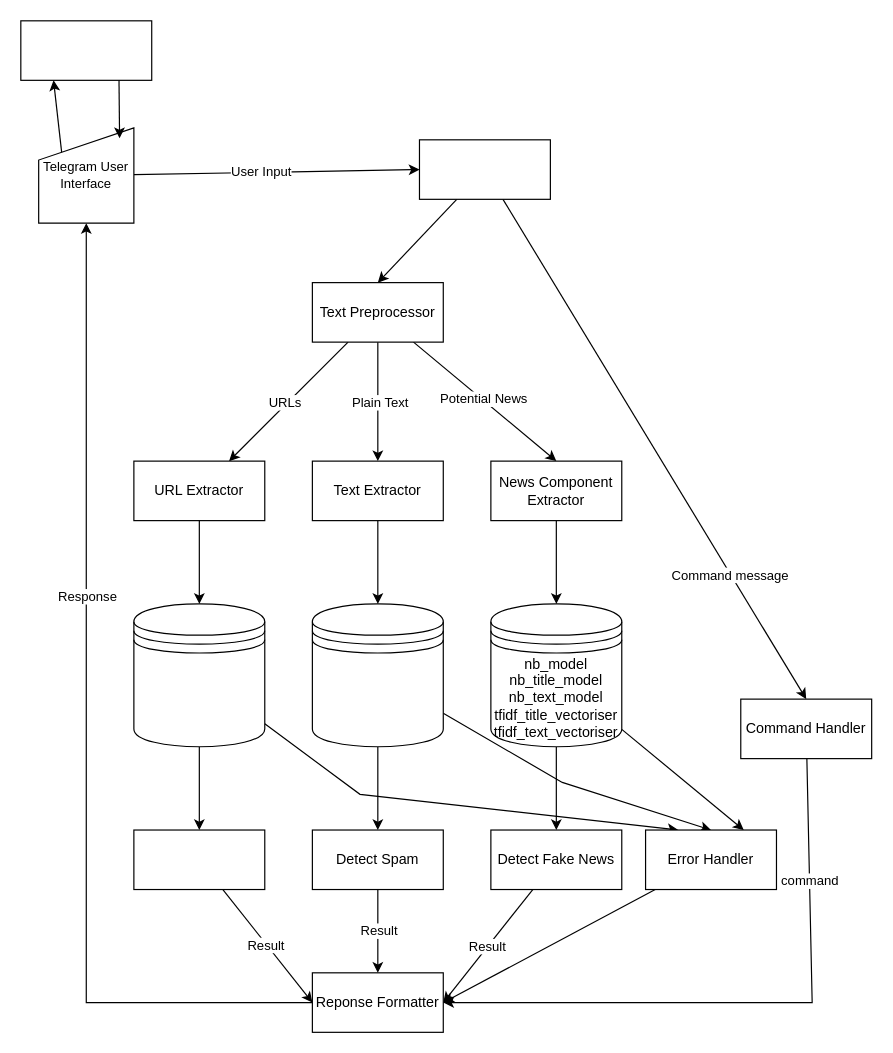
Some shapes in this 893 by 1053 pixel diagram are drawn without their labels. The shapes that lost their labels are listed below. From the top down, each one's centre as x and y in pixels, then its label:
At pixel 86 50: "User".
At pixel 484 169: "Message Router".
At pixel 199 675: "link_model link_vectoriser".
At pixel 377 675: "message_model message_vectoriser".
At pixel 199 859: "Detect Malicious Link".
